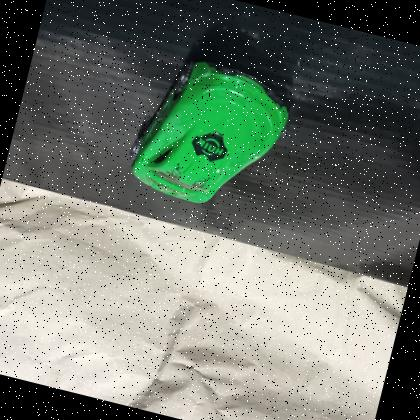Car: (116, 34, 308, 228)
